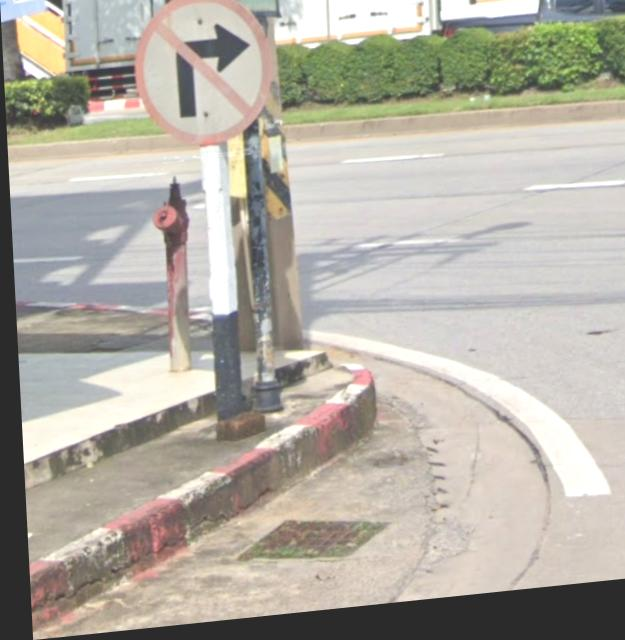not_turn_right: (135, 0, 274, 159)
